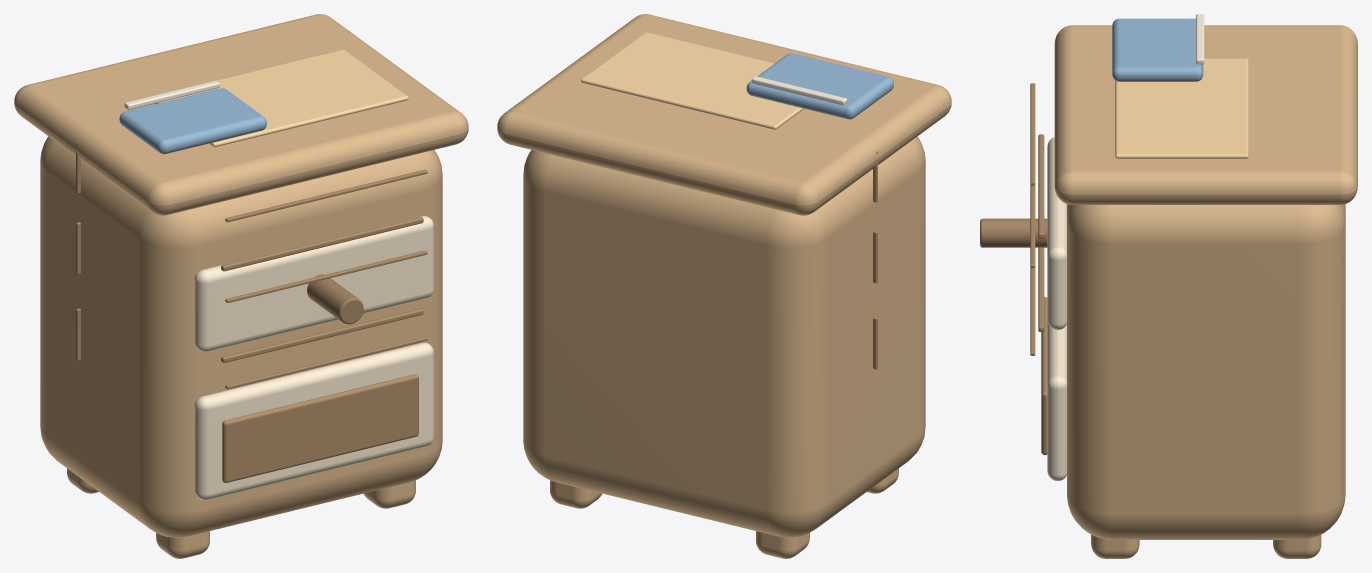
File: 目标原木床头柜.fbx
The picture shows the model from 3 angles, left to right: view 1: azimuth 30°, elevation 25°; view 2: azimuth 150°, elevation 25°; view 3: azimuth 270°, elevation 25°; orthographic projection.
Visible parts, largest first — view 1: 目标原木床头柜_v233_圆角柜体, 目标原木床头柜_v233_厚实顶板, 目标原木床头柜_v233_浅色上抽屉面, 目标原木床头柜_v233_下开放格内衬, 目标原木床头柜_v233_开放格内阴影, 目标原木床头柜_v233_桌面清漆柔光, 目标原木床头柜_v233_蓝色睡前书, 目标原木床头柜_v233_细长圆木拉手, 目标原木床头柜_v233_抽屉上缘暗缝, 目标原木床头柜_v233_抽屉下缘暗缝, 目标原木床头柜_v233_正面横木纹.002, 目标原木床头柜_v233_正面横木纹 (+4 smaller); view 2: 目标原木床头柜_v233_圆角柜体, 目标原木床头柜_v233_厚实顶板, 目标原木床头柜_v233_桌面清漆柔光, 目标原木床头柜_v233_蓝色睡前书, 目标原木床头柜_v233_圆润短木脚.001, 目标原木床头柜_v233_圆润短木脚.003, 目标原木床头柜_v233_奶油书页边; view 3: 目标原木床头柜_v233_圆角柜体, 目标原木床头柜_v233_厚实顶板, 目标原木床头柜_v233_桌面清漆柔光, 目标原木床头柜_v233_蓝色睡前书, 目标原木床头柜_v233_浅色上抽屉面, 目标原木床头柜_v233_下开放格内衬, 目标原木床头柜_v233_细长圆木拉手, 目标原木床头柜_v233_开放格内阴影, 目标原木床头柜_v233_圆润短木脚.003, 目标原木床头柜_v233_圆润短木脚.002, 目标原木床头柜_v233_抽屉上缘暗缝, 目标原木床头柜_v233_正面横木纹.002 (+3 smaller).
Part boxes in pixels (x1,y1,x2,y2): 目标原木床头柜_v233_圆角柜体: [40, 136, 442, 537]; 目标原木床头柜_v233_厚实顶板: [14, 14, 468, 215]; 目标原木床头柜_v233_浅色上抽屉面: [194, 216, 433, 351]; 目标原木床头柜_v233_下开放格内衬: [194, 342, 433, 500]; 目标原木床头柜_v233_开放格内阴影: [222, 374, 418, 482]; 目标原木床头柜_v233_桌面清漆柔光: [155, 49, 408, 147]; 目标原木床头柜_v233_蓝色睡前书: [119, 88, 266, 154]; 目标原木床头柜_v233_细长圆木拉手: [307, 274, 363, 324]; 目标原木床头柜_v233_抽屉上缘暗缝: [221, 216, 423, 271]; 目标原木床头柜_v233_抽屉下缘暗缝: [221, 308, 423, 362]; 目标原木床头柜_v233_正面横木纹.002: [225, 169, 427, 222]; 目标原木床头柜_v233_正面横木纹: [225, 336, 427, 389]; 目标原木床头柜_v233_圆角柜体: [523, 136, 925, 537]; 目标原木床头柜_v233_厚实顶板: [497, 14, 951, 215]; 目标原木床头柜_v233_桌面清漆柔光: [581, 32, 803, 129]; 目标原木床头柜_v233_蓝色睡前书: [746, 53, 893, 119]; 目标原木床头柜_v233_圆润短木脚.001: [756, 531, 809, 558]; 目标原木床头柜_v233_圆润短木脚.003: [550, 480, 601, 508]; 目标原木床头柜_v233_奶油书页边: [751, 76, 847, 105]; 目标原木床头柜_v233_圆角柜体: [1067, 204, 1345, 539]; 目标原木床头柜_v233_厚实顶板: [1054, 25, 1357, 204]; 目标原木床头柜_v233_桌面清漆柔光: [1115, 58, 1248, 158]; 目标原木床头柜_v233_蓝色睡前书: [1112, 18, 1203, 81]; 目标原木床头柜_v233_浅色上抽屉面: [1047, 137, 1066, 329]; 目标原木床头柜_v233_下开放格内衬: [1047, 320, 1066, 480]; 目标原木床头柜_v233_细长圆木拉手: [980, 218, 1047, 247]; 目标原木床头柜_v233_开放格内阴影: [1041, 297, 1047, 455]; 目标原木床头柜_v233_圆润短木脚.003: [1273, 535, 1321, 558]; 目标原木床头柜_v233_圆润短木脚.002: [1091, 534, 1139, 558]; 目标原木床头柜_v233_抽屉上缘暗缝: [1038, 134, 1044, 238]; 目标原木床头柜_v233_正面横木纹.002: [1030, 83, 1035, 185].
Size of the model in its own units: 62 by 78.3 by 62.3.
